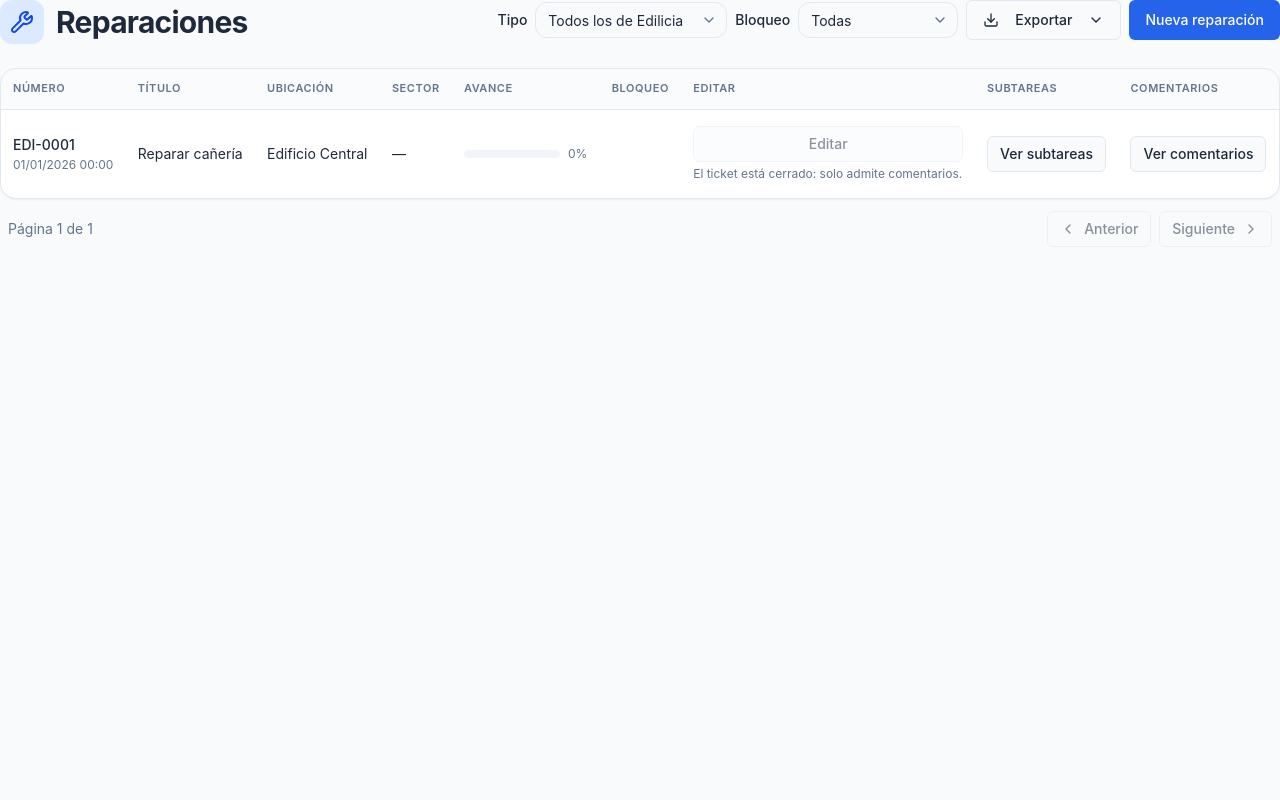
Scenario: ReparacionesList — fila cerrada, cancelada o bloqueada: subtareas de solo lectura, comentarios internos abiertos › en una reparación cerrada, para un no administrador (odd/cerrado-solo-comentarios), el diálogo de subtareas no deja agregar y el de comentarios sí deja comentar
Expected: the text "EDI-0001" is shown, x1=13 y1=136 x2=75 y2=152
Click the button "Ver subtareas": [1047, 154] box x1=987 y1=136 x2=1106 y2=172
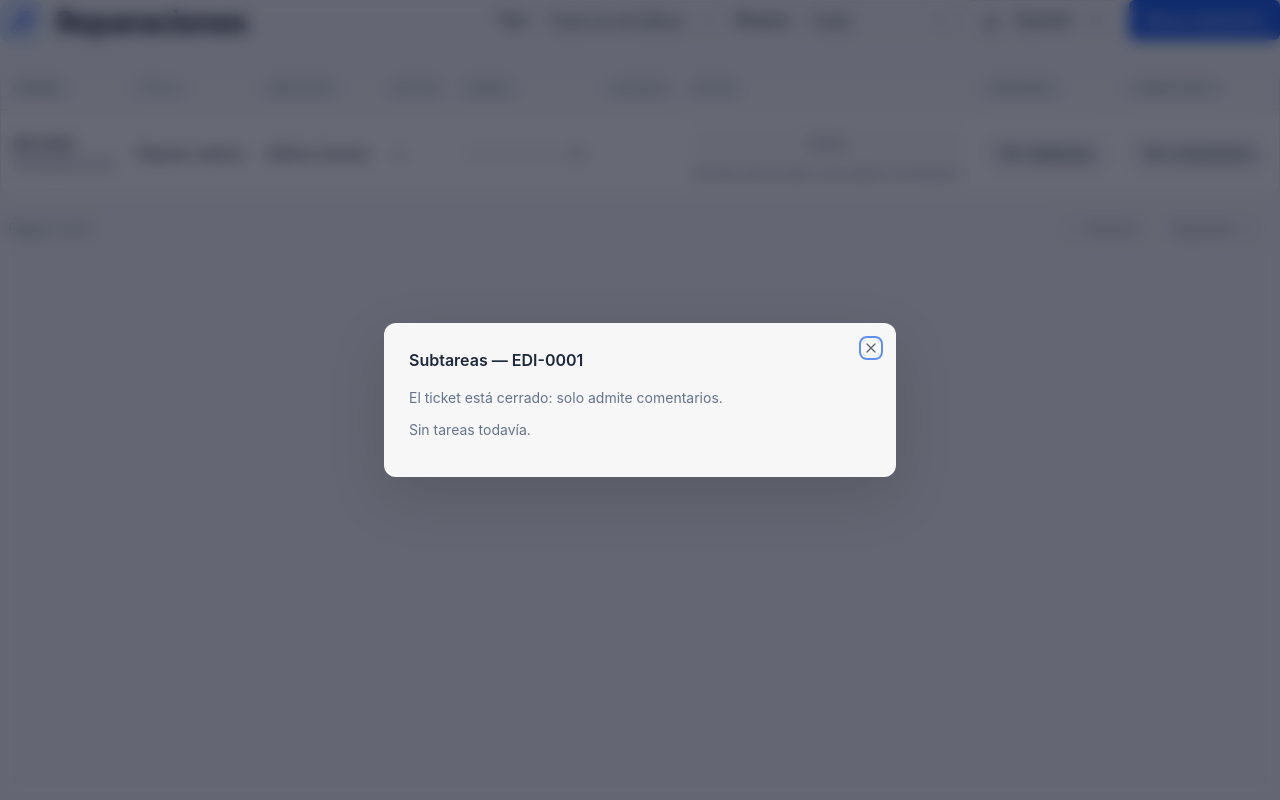
Expected: the text "El ticket está cerrado: solo admite comentarios." is shown, x1=409 y1=389 x2=723 y2=406
Press Escape
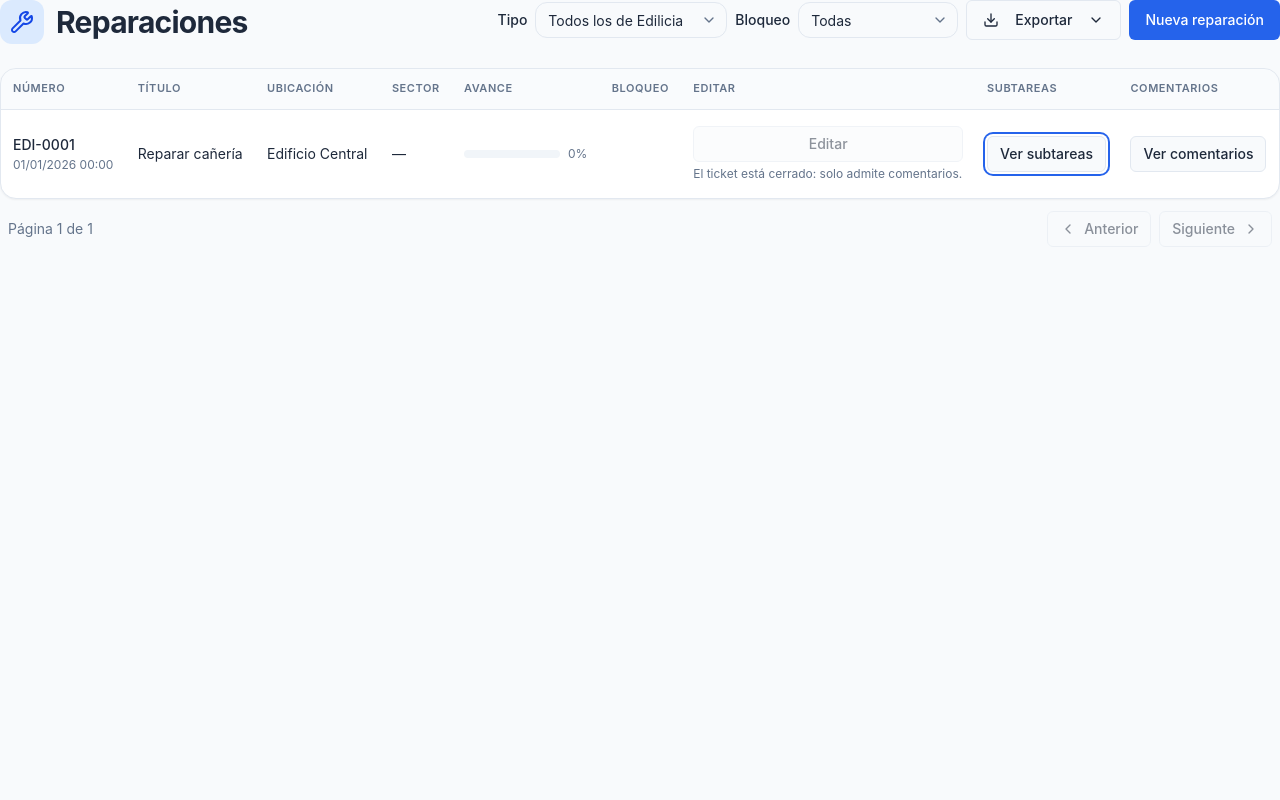
Click the button "Ver comentarios": [1198, 154] box x1=1130 y1=136 x2=1266 y2=172
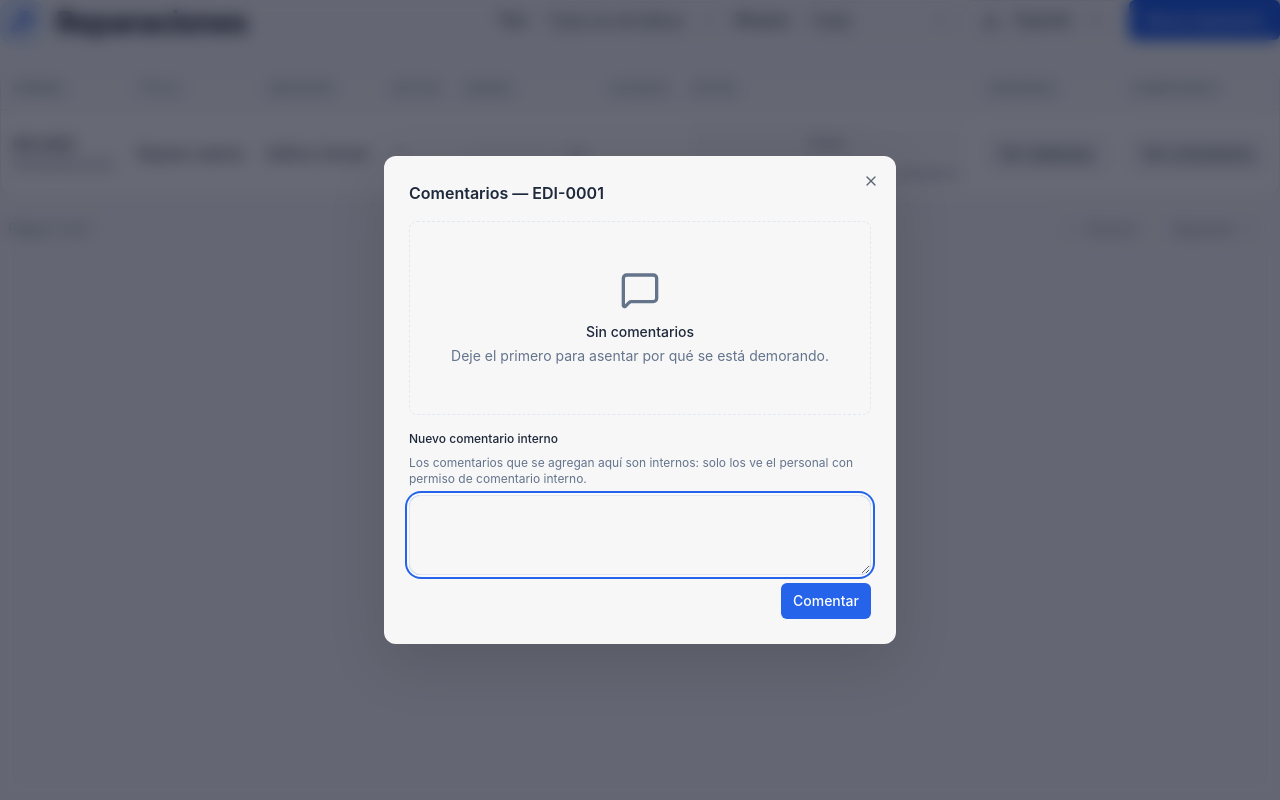
Expected: the text "El ticket está cerrado: solo admite comentarios" is not shown, x1=409 y1=455 x2=871 y2=487
Expected: the text box labelled "Nuevo comentario interno" is shown, x1=409 y1=495 x2=871 y2=575
